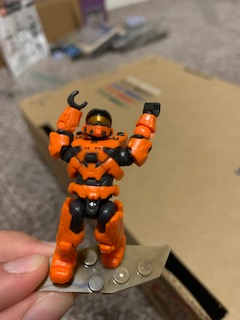spartan: (46, 90, 163, 283)
up: (44, 88, 161, 185)
